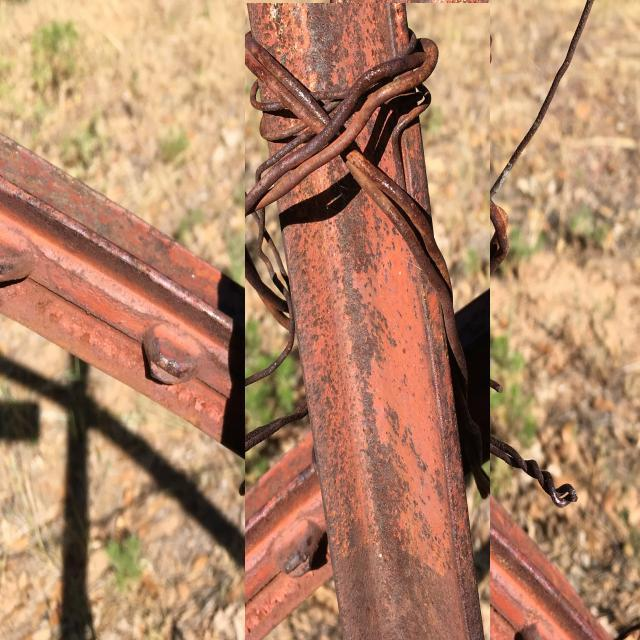Uniform Corrosion: (0, 0, 611, 639)
